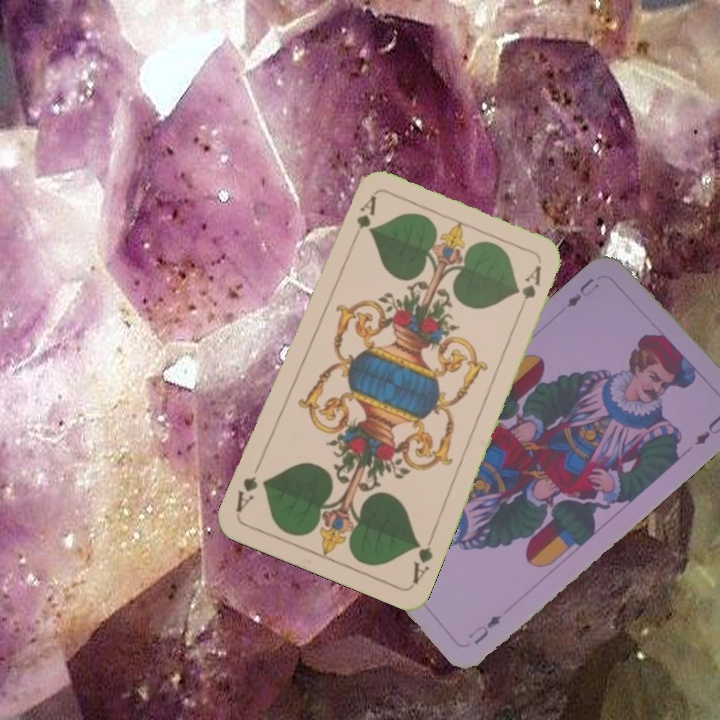EU: (464, 611, 505, 648), (562, 273, 602, 310)
GA: (347, 192, 380, 248), (408, 529, 438, 587)
